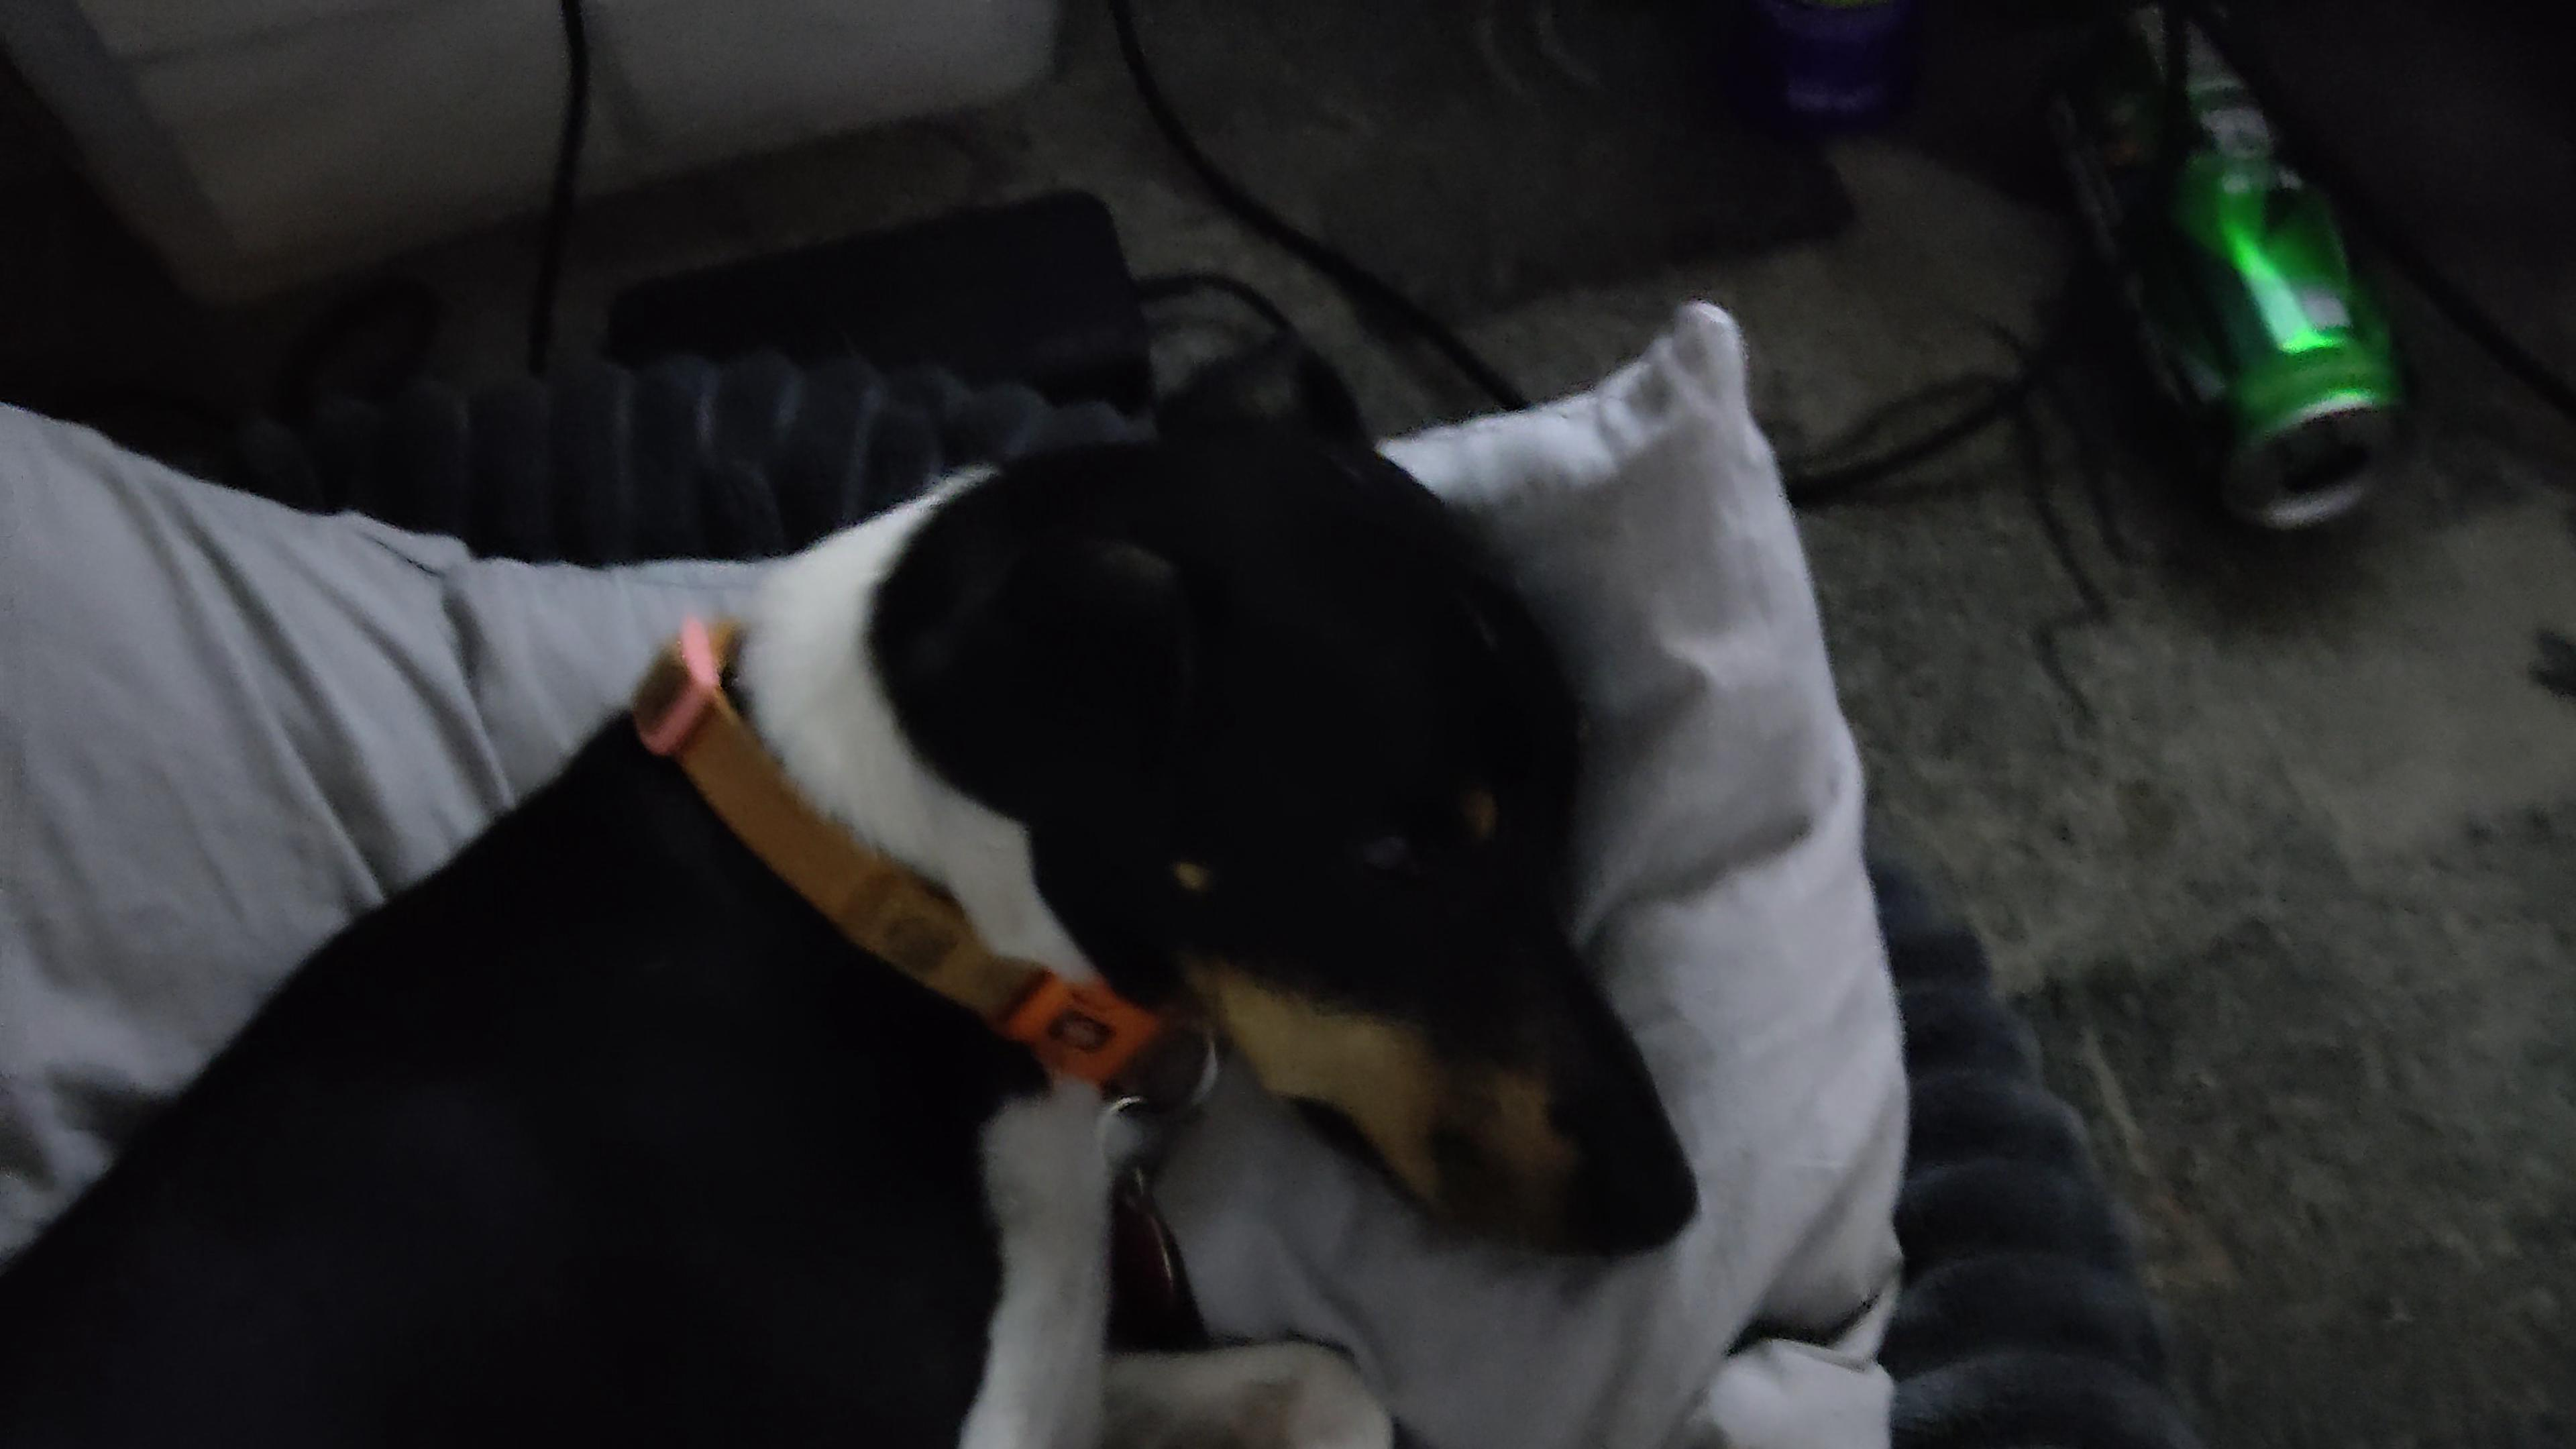Dog: (0, 310, 1716, 1449)
